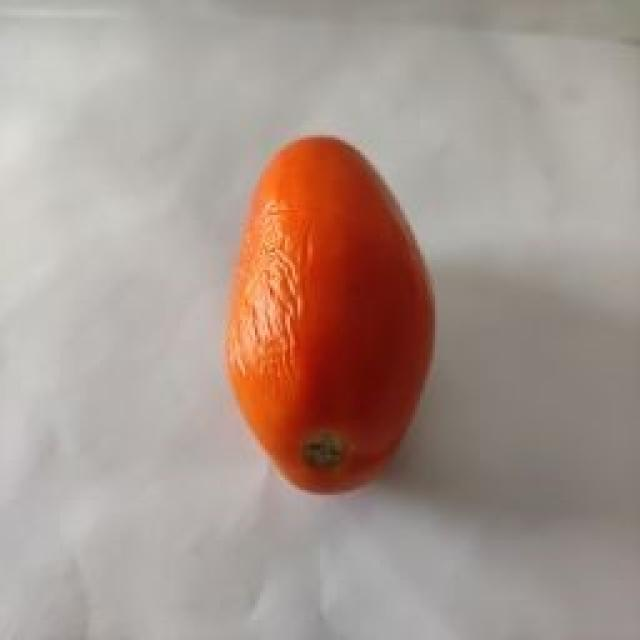Ripe: (222, 134, 439, 495)
